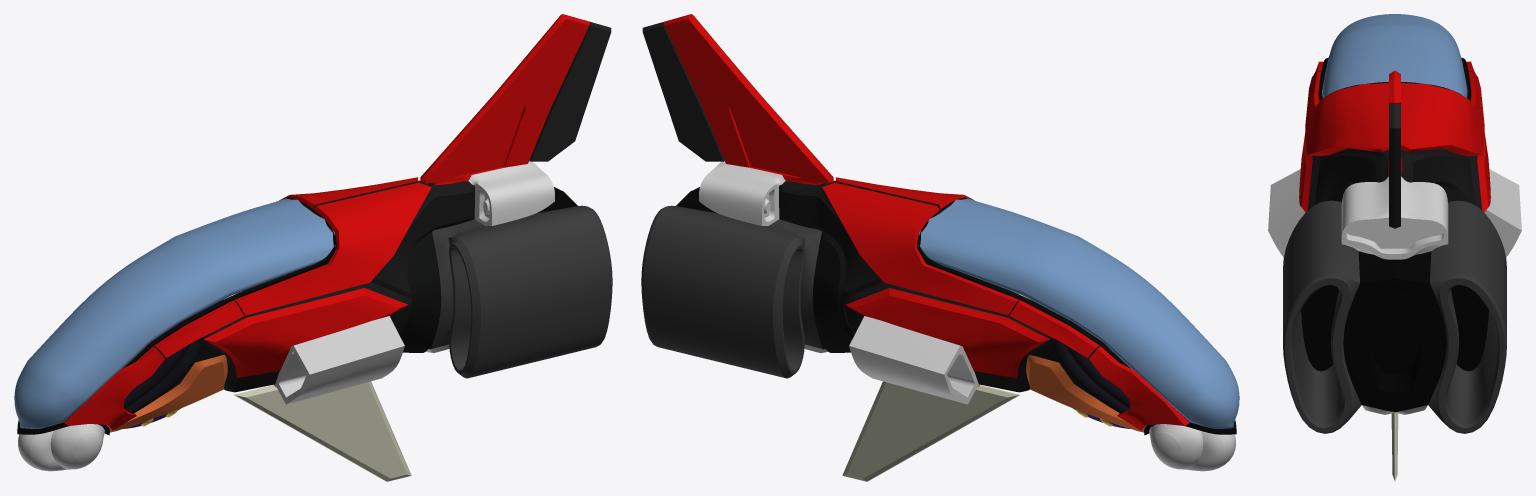
The model's file is space-ship.obj.
3 renders of one model, left to right at view 1: azimuth 30°, elevation 25°; view 2: azimuth 150°, elevation 25°; view 3: azimuth 270°, elevation 25°, orthographic. The views are drawn at different scales.
Visible parts, largest first — view 1: windshield_wshield, main-engine_meng, hull, tail, bottom-fin_bfin, side-hull_shull, chasis, side-engine_seng, ion-engine_ioneng, engine-connector_engcon, front-bumper_fbump, side-belly-hull_sbhull (+2 smaller); view 2: windshield_wshield, main-engine_meng, hull, tail, bottom-fin_bfin, side-hull_shull, chasis, side-engine_seng, ion-engine_ioneng, engine-connector_engcon, front-bumper_fbump, side-belly-hull_sbhull (+2 smaller); view 3: main-engine_meng, hull, exhaust_exh, windshield_wshield, ion-engine_ioneng, chasis, side-engine_seng, main-exhaust-gas_mexhg, tail, side-hull_shull, windshield-clamp_wshclamp, bottom-fin_bfin (+2 smaller).
Part boxes in pixels (x1,y1,x2,y2): windshield_wshield: (14,198,335,428); main-engine_meng: (431,205,612,378); hull: (64,177,431,430); tail: (420,14,611,184); bottom-fin_bfin: (234,381,411,481); side-hull_shull: (204,288,408,378); chasis: (154,180,474,396); side-engine_seng: (224,291,404,404); ion-engine_ioneng: (468,161,554,225); engine-connector_engcon: (400,232,441,352); front-bumper_fbump: (18,424,104,471); side-belly-hull_sbhull: (109,342,227,432); windshield_wshield: (918,198,1239,428); main-engine_meng: (641,205,822,378); hull: (822,177,1189,430); tail: (642,14,833,184); bottom-fin_bfin: (842,381,1019,481); side-hull_shull: (845,288,1049,378); chasis: (779,180,1099,396); side-engine_seng: (849,291,1029,404); ion-engine_ioneng: (699,161,785,225); engine-connector_engcon: (812,232,853,352); front-bumper_fbump: (1149,424,1235,471); side-belly-hull_sbhull: (1026,342,1144,432); main-engine_meng: (1283,200,1506,433); hull: (1305,61,1484,155); exhaust_exh: (1343,251,1446,412); windshield_wshield: (1322,14,1467,97); ion-engine_ioneng: (1341,176,1448,259); chasis: (1307,71,1482,210); side-engine_seng: (1268,169,1521,257); main-exhaust-gas_mexhg: (1368,288,1421,374); tail: (1387,70,1402,228); side-hull_shull: (1299,133,1490,212); windshield-clamp_wshclamp: (1318,57,1471,100); bottom-fin_bfin: (1391,412,1398,481).
Bounding box in the file's own units: 29.44 × 20.14 × 9.31.
